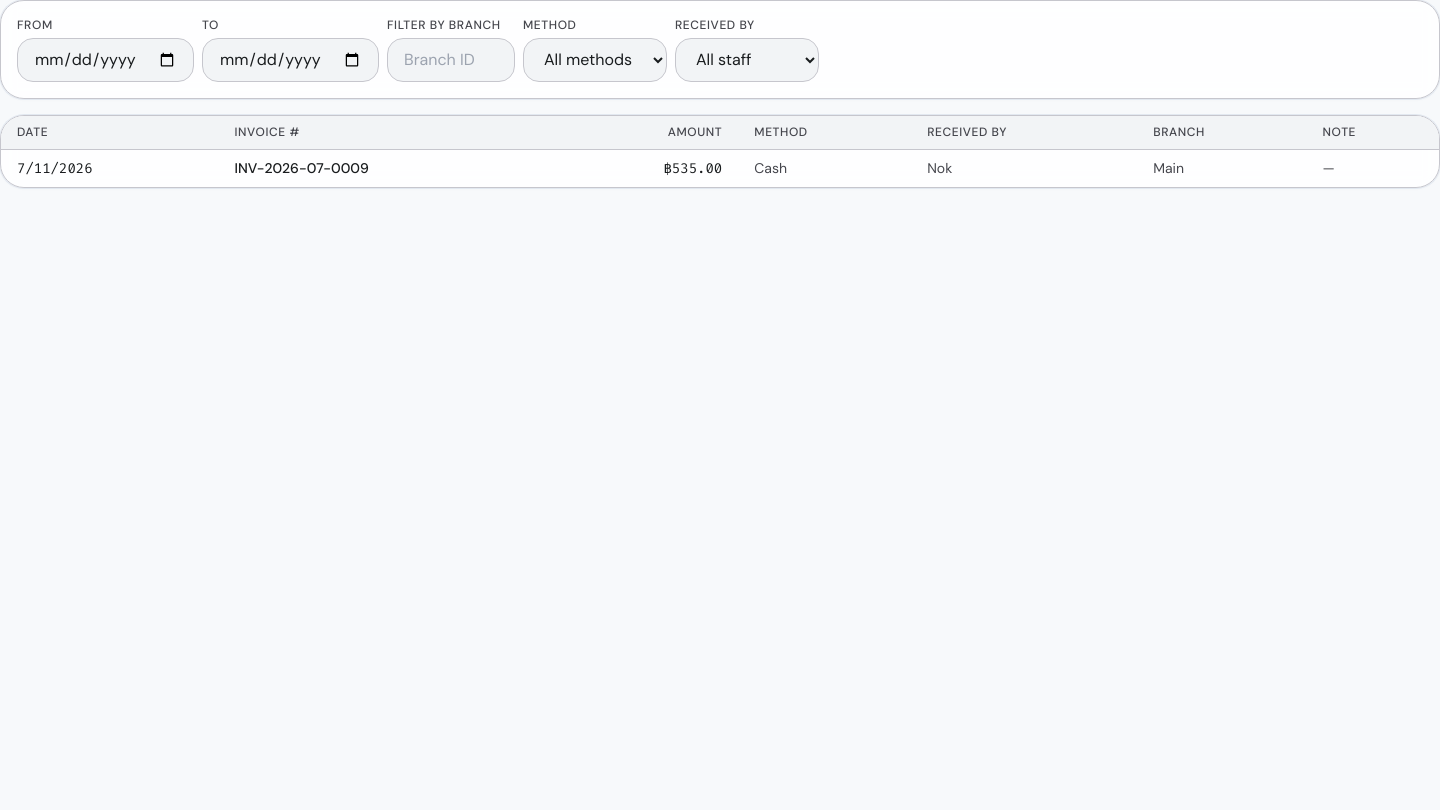
Test: PaymentHistoryTab — row click opens ReceiptModal (T-3b.3) › 404 on the fetched invoice shows an error state, no crash
Step 1. Click the button "INV-2026-07-0009" → x=720, y=168, box [1,149,1439,187]
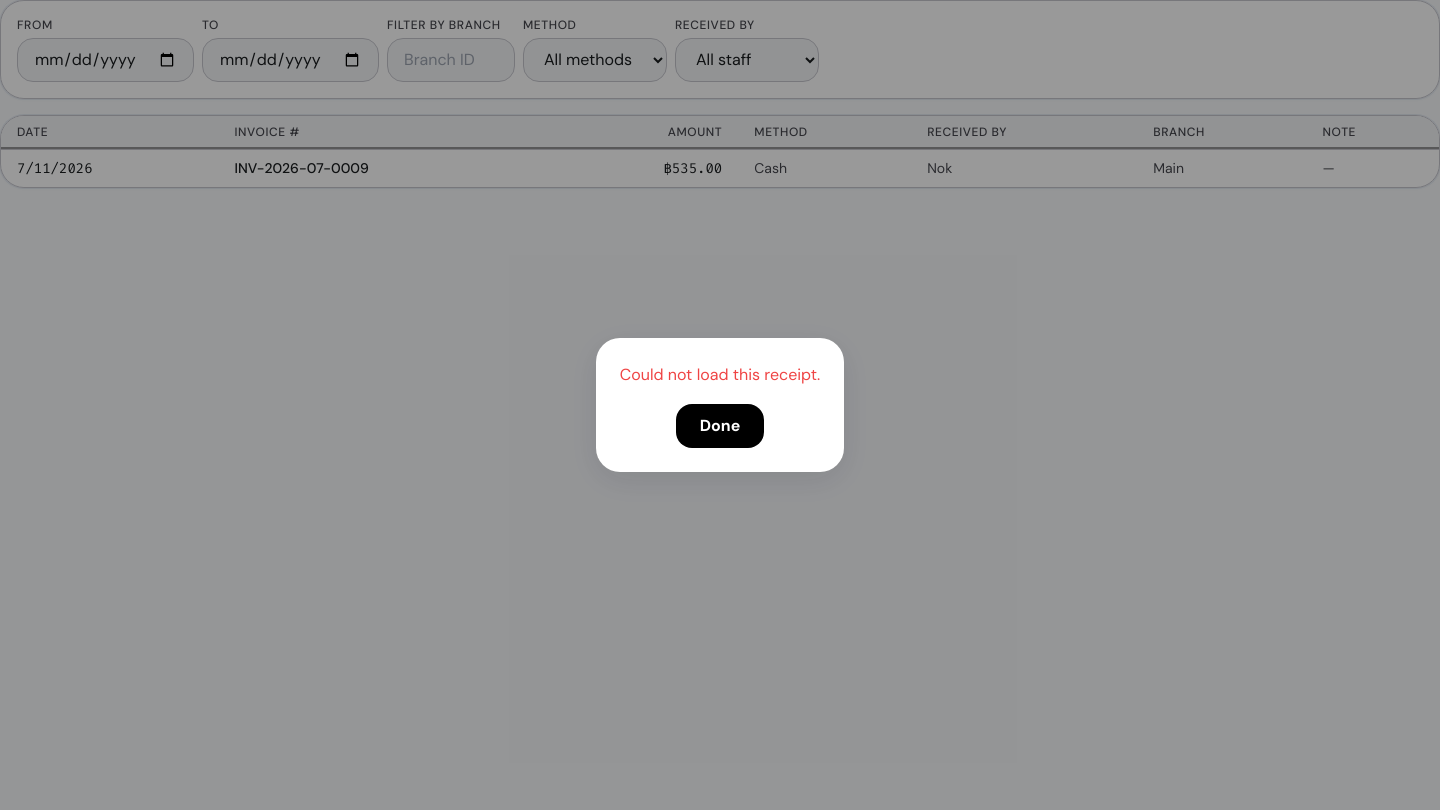
Check: the text "Could not load this receipt." is shown, box [620,362,820,388]
